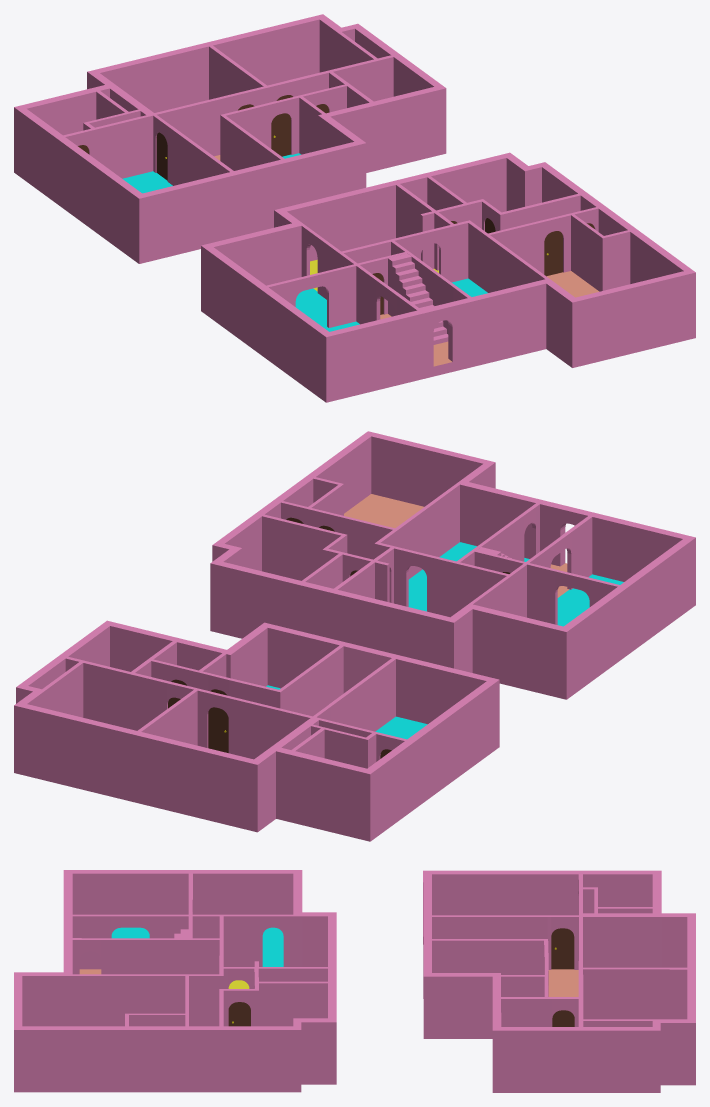
File: SimpsonsHouse3.fbx
3 views of the same model, one above another, from view 1: azimuth 30°, elevation 25°; view 2: azimuth 150°, elevation 25°; view 3: azimuth 270°, elevation 25° (orthographic). The views are drawn at different scales.
Visible parts, largest first — view 1: Walls1, Walls2, Floor1, Floor2, Stairs, Door10, Door5; view 2: Walls1, Walls2, Floor1, Floor2, Door2; view 3: Walls1, Walls2, Floor1, Floor2, Door3, Door8.001.
Part boxes in pixels (x1,y1,x2,y2): Walls1: (201, 152, 695, 392); Walls2: (14, 14, 446, 254); Floor1: (201, 259, 695, 402); Floor2: (14, 144, 446, 263); Stairs: (388, 253, 448, 344); Door10: (544, 231, 562, 276); Door5: (271, 113, 290, 156); Walls1: (210, 431, 695, 689); Walls2: (14, 620, 499, 831); Floor1: (210, 494, 695, 699); Floor2: (14, 685, 499, 841); Door2: (208, 707, 228, 752); Walls1: (14, 870, 336, 1082); Walls2: (423, 870, 695, 1083); Floor1: (14, 927, 336, 1092); Floor2: (423, 937, 695, 1092); Door3: (551, 928, 574, 969); Door8.001: (228, 1002, 250, 1026).
Size of the model in its own units: 1693 by 307 by 3039.
